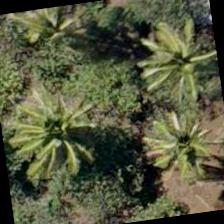Kelapa_Sawit: (10, 80, 112, 182), (130, 12, 224, 113), (136, 98, 223, 200), (0, 2, 95, 71)
